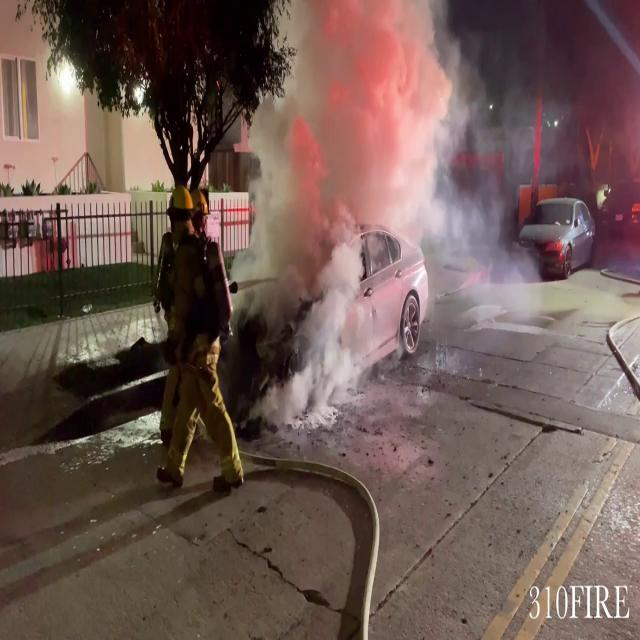Smoke: (242, 0, 544, 369)
